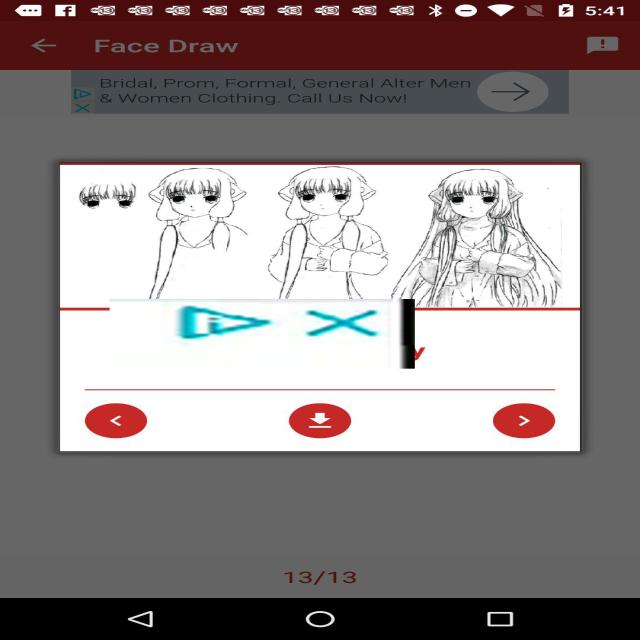sneaking: (110, 299, 414, 369)
